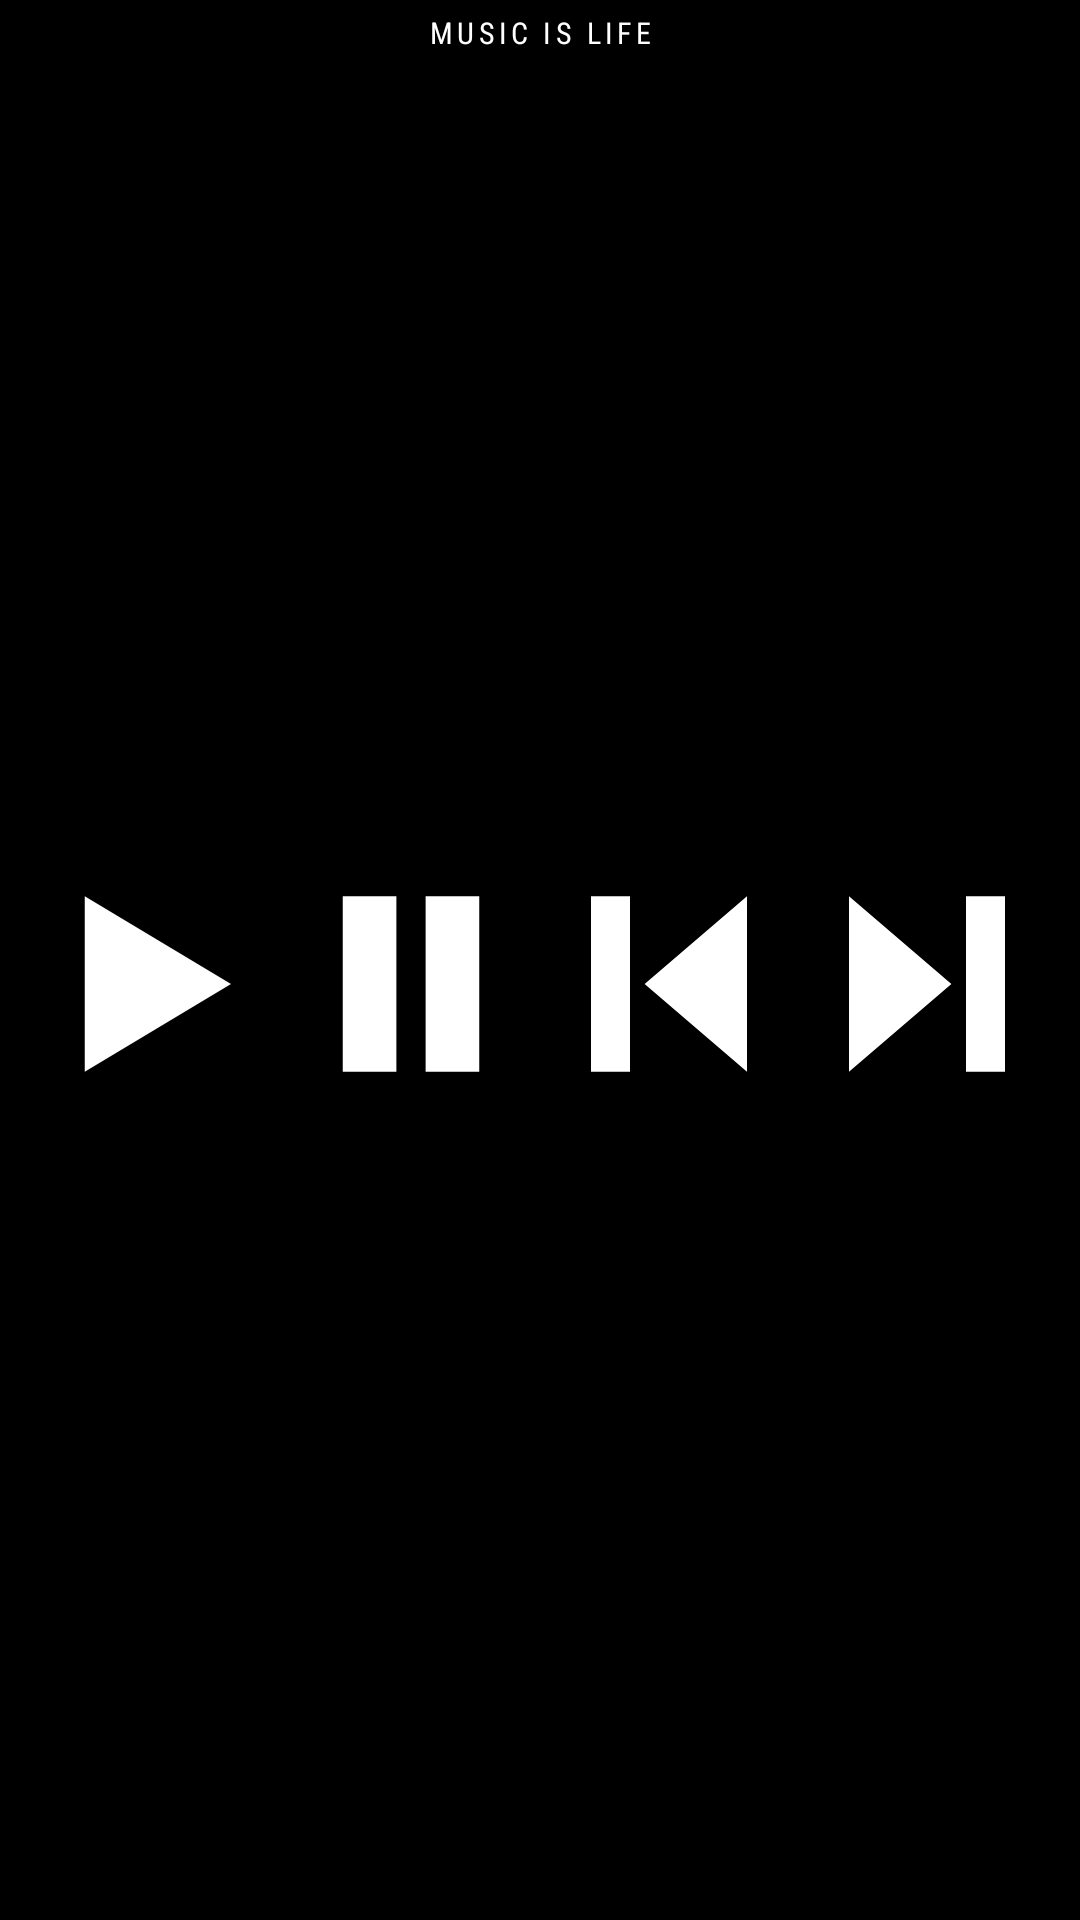

Icon bounding boxes for this 1080*1920 phone screenshot, format (x1, y1, x2, y2):
Next: (849, 896, 1005, 1072)
Pause: (342, 896, 480, 1072)
Play: (84, 896, 231, 1072)
Previous: (591, 896, 747, 1072)
